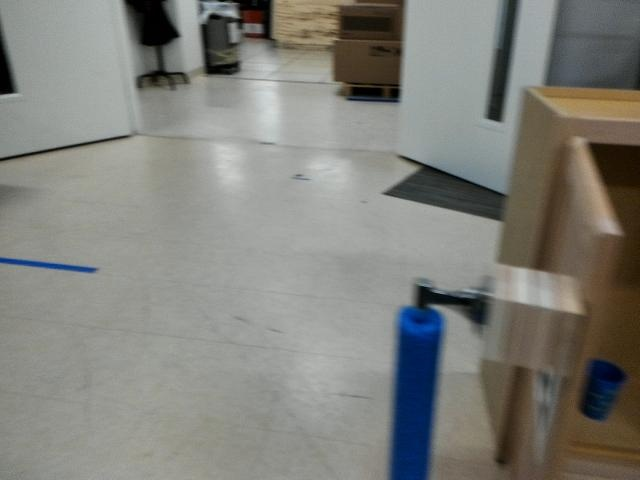noodle_handle: (389, 298, 445, 478)
water_cup: (587, 355, 625, 425)
